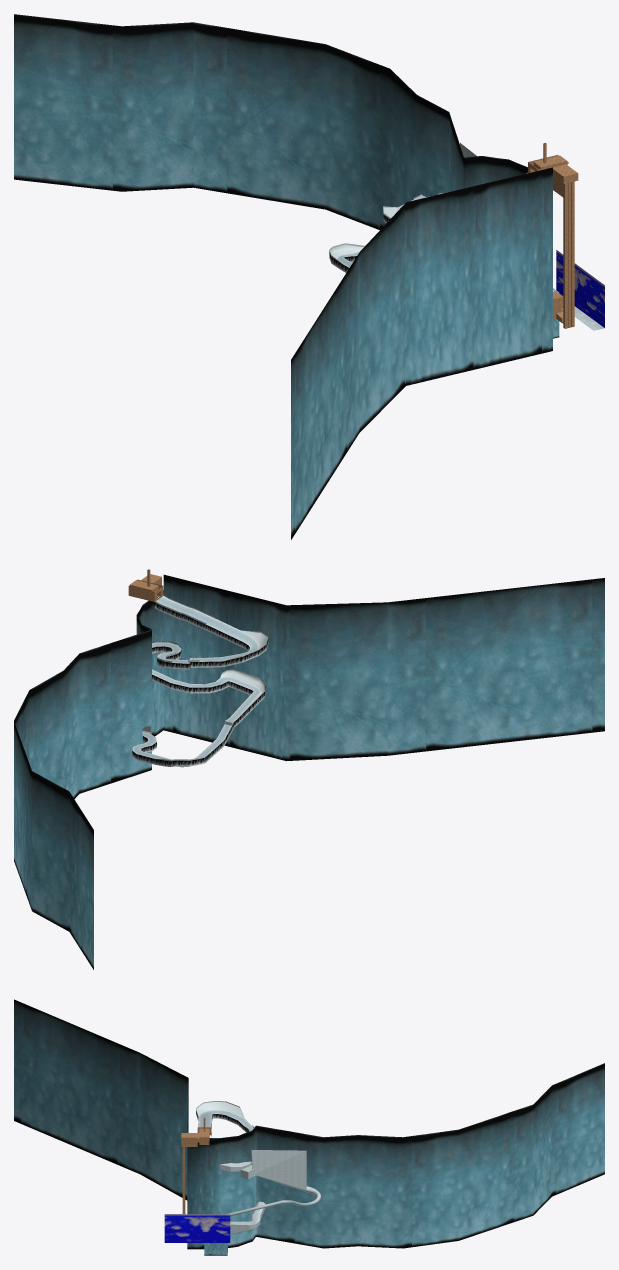
3 renders of one model, top to bottom at view 1: azimuth 30°, elevation 25°; view 2: azimuth 150°, elevation 25°; view 3: azimuth 270°, elevation 25°, orthographic. The views are drawn at different scales.
Visible parts, largest first — view 1: Model_Main-3, Model_Main-2, Model_Main-0, Model_Main-4; view 2: Model_Main-3, Model_Main-4, Model_Main-5, Model_Main-2; view 3: Model_Main-3, Model_Main-7, Model_Main-0, Model_Main-4, Model_Main-2, Model_Main-01.
Part boxes in pixels (left/top/right/bottom): Model_Main-3: left=14, top=14, right=559, bottom=539; Model_Main-2: left=528, top=143, right=578, bottom=328; Model_Main-0: left=556, top=250, right=604, bottom=327; Model_Main-4: left=329, top=196, right=427, bottom=267; Model_Main-3: left=14, top=574, right=604, bottom=969; Model_Main-4: left=132, top=596, right=268, bottom=761; Model_Main-5: left=132, top=602, right=268, bottom=767; Model_Main-2: left=128, top=569, right=163, bottom=601; Model_Main-3: left=14, top=999, right=604, bottom=1255; Model_Main-7: left=219, top=1131, right=306, bottom=1241; Model_Main-0: left=164, top=1214, right=230, bottom=1242; Model_Main-4: left=196, top=1101, right=253, bottom=1131; Model_Main-2: left=181, top=1118, right=211, bottom=1213; Model_Main-01: left=226, top=1175, right=320, bottom=1216.
Bounding box in the file's own units: 131516 × 58091 × 234690.
18 materials, 16 textured.
